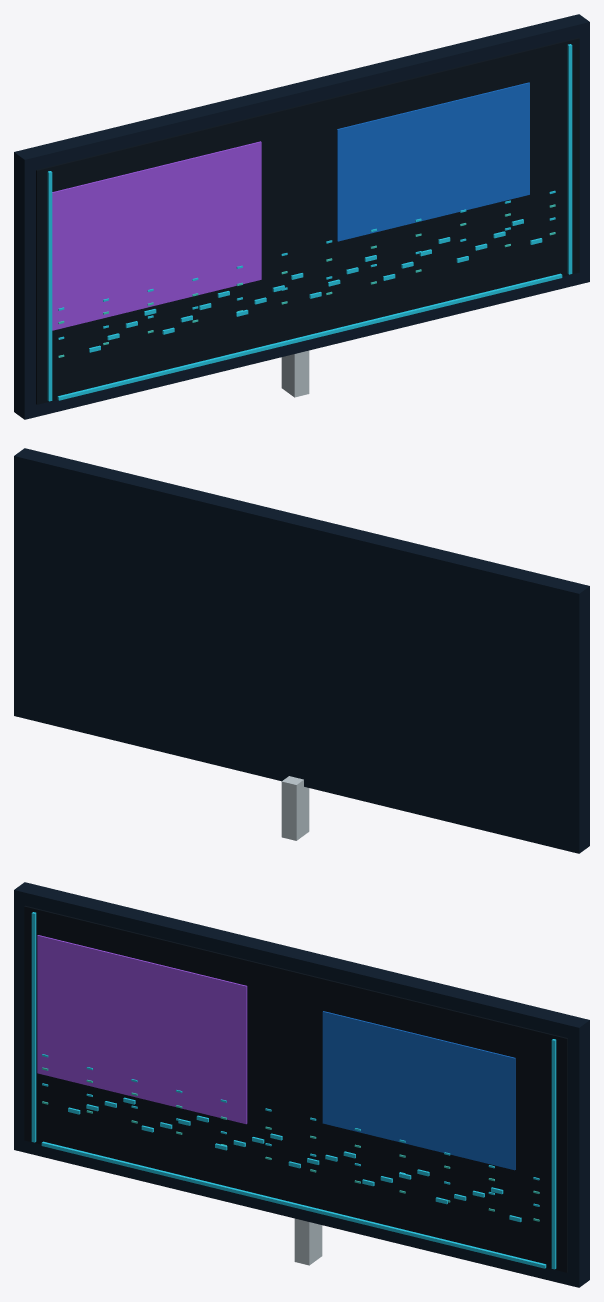
Rendered from 57_L76_HolographicInterconnectSCADA.fbx.
The picture shows the model from 3 angles, top to bottom: view 1: azimuth 30°, elevation 25°; view 2: azimuth 150°, elevation 25°; view 3: azimuth 330°, elevation 25°; orthographic projection.
Visible parts, largest first — view 1: HolographicInterconnectSCADA; view 2: HolographicInterconnectSCADA; view 3: HolographicInterconnectSCADA.
Part boxes in pixels (left/top/right/bottom): HolographicInterconnectSCADA: left=14, top=14, right=589, bottom=419; HolographicInterconnectSCADA: left=14, top=448, right=589, bottom=853; HolographicInterconnectSCADA: left=14, top=882, right=589, bottom=1287.
Size of the model in its own units: 455 by 238 by 33.3.
